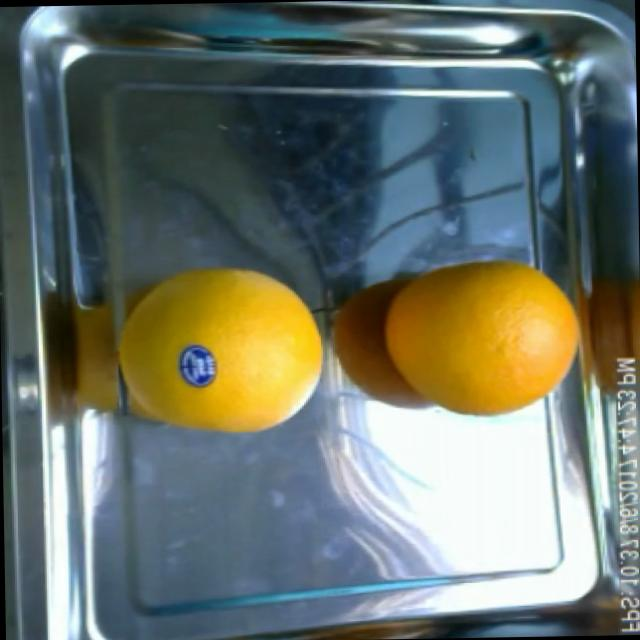Fruit: (385, 238, 592, 432), (172, 342, 224, 389)
